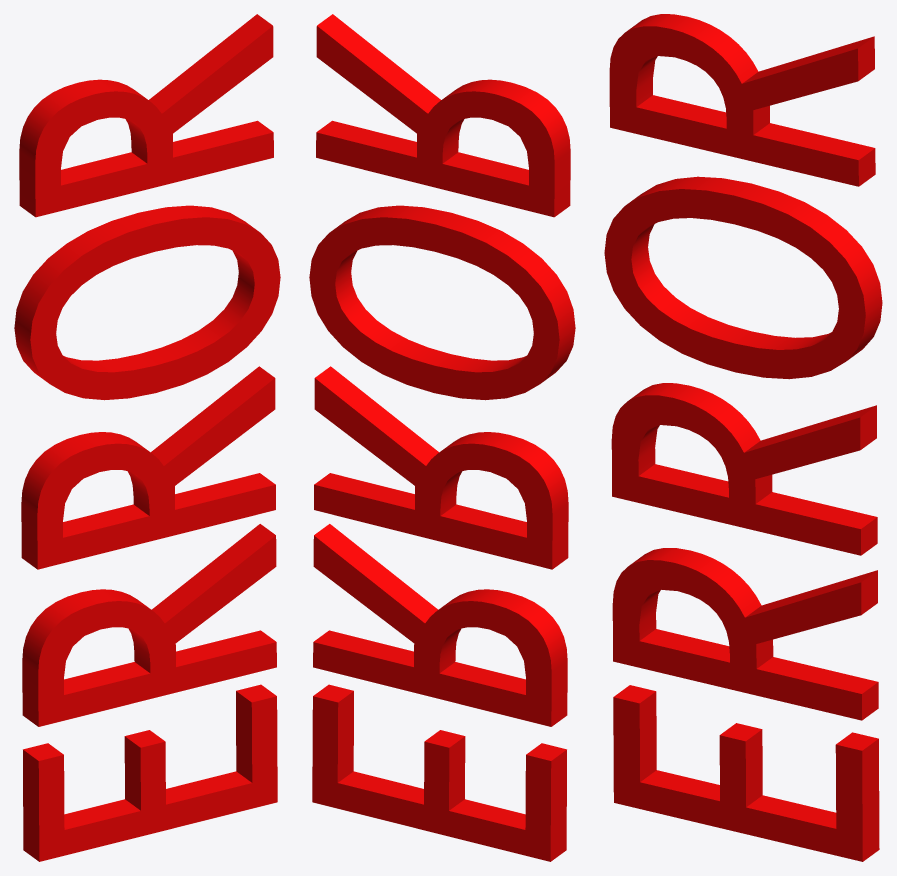
File: Level3_large_error.glb
3 views of the same model, side by side, from view 1: azimuth 30°, elevation 25°; view 2: azimuth 150°, elevation 25°; view 3: azimuth 330°, elevation 25° (orthographic). The views are drawn at different scales.
Visible parts, largest first — view 1: typeMesh1; view 2: typeMesh1; view 3: typeMesh1.
Part boxes in pixels (x1,y1,x2,y2): typeMesh1: (14,14,280,861); typeMesh1: (309,14,575,861); typeMesh1: (604,14,882,861).
Size of the model in its own units: 4.14 by 12.33 by 0.4576.
1 material, 1 textured.
